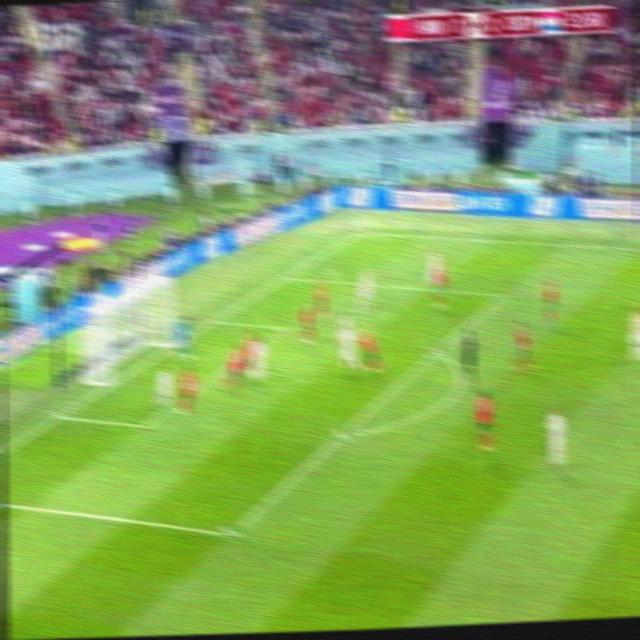bigarea_bottom_inner: (220, 520, 242, 546)
bigarea_top_inner: (494, 285, 510, 303)
bigarea_top_outter: (280, 270, 292, 282)
bottom_arc_area_intersection: (332, 423, 350, 444)
corner: (353, 229, 368, 236)
smallarea_bottom_inner: (134, 415, 152, 434)
smallarea_bottom_outter: (52, 406, 68, 423)
smallarea_top_inner: (278, 319, 292, 335)
smallarea_top_outter: (207, 313, 221, 327)
top_arc_area_intersection: (428, 342, 445, 360)
